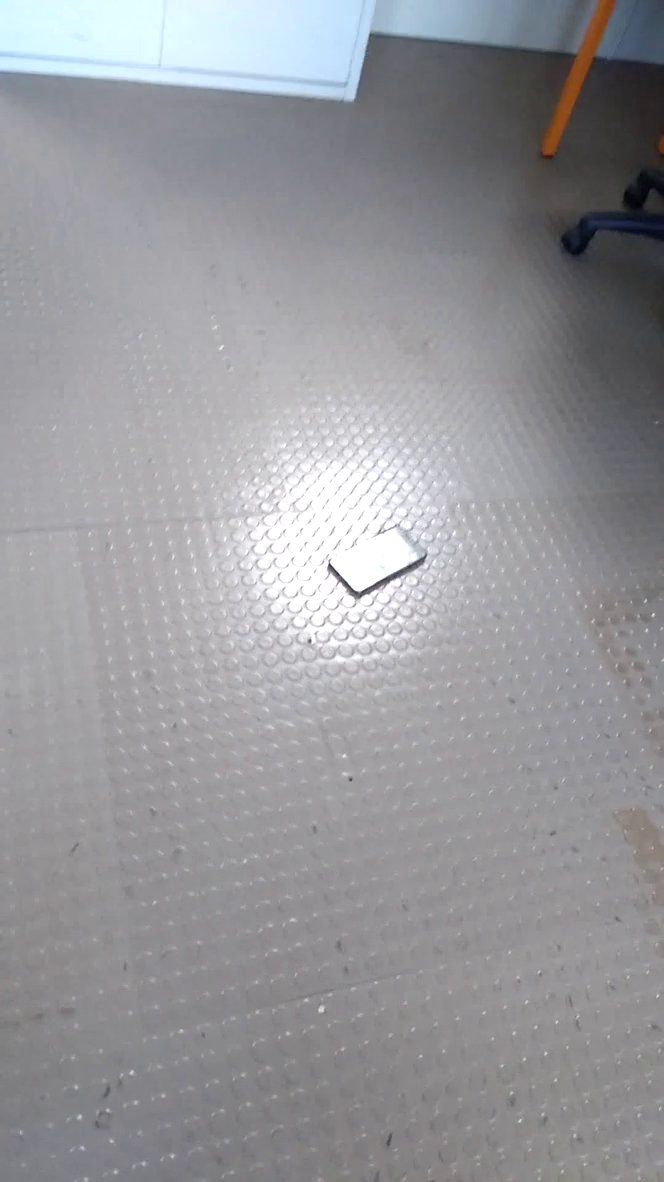phone: (323, 514, 435, 620)
